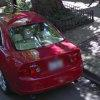Car: (2, 9, 85, 100)
